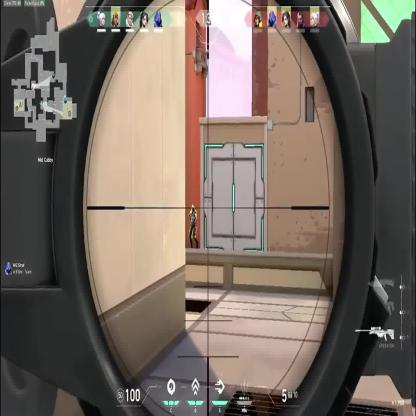enemy: (188, 203, 198, 249)
enemy_head: (191, 204, 195, 212)
